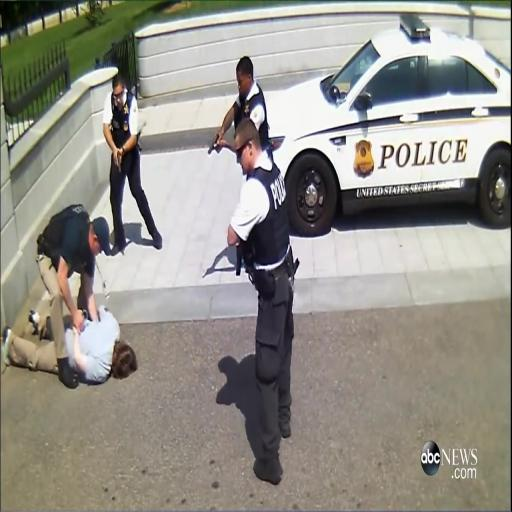Guns: (235, 242, 244, 276), (207, 132, 219, 157), (114, 151, 123, 172)
